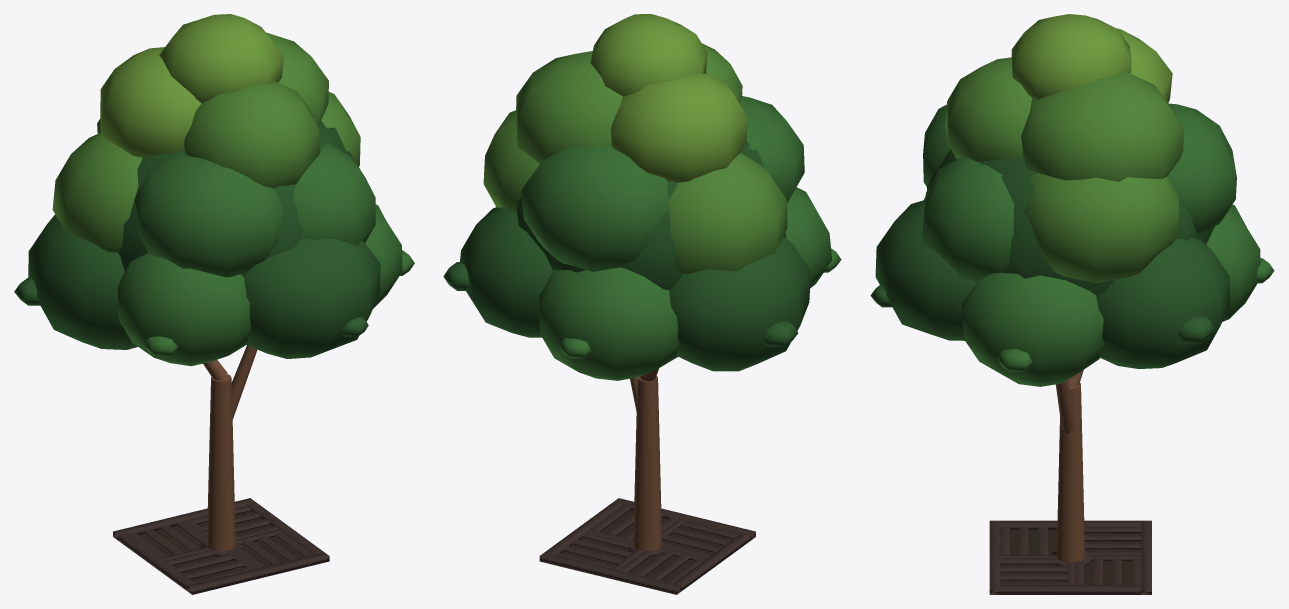
The model's file is tree.glb.
3 renders of one model, left to right at view 1: azimuth 30°, elevation 25°; view 2: azimuth 150°, elevation 25°; view 3: azimuth 270°, elevation 25°, orthographic. The views are drawn at different scales.
Parts seen in each view (by area): view 1: Crown14, Crown02, Crown01, Crown22, Crown00, Crown21, Crown30, Crown13, Crown10, Trunk, CrownCore, Crown20 (+9 smaller); view 2: Crown12, Crown05, Crown00, Crown21, Crown13, Crown20, Crown04, Crown30, Trunk, Crown14, CrownCore, Crown11 (+9 smaller); view 3: Crown20, Crown11, Crown03, Crown04, Crown10, Crown02, Crown30, Crown22, Crown12, CrownCore, Trunk, Crown05 (+11 smaller).
Boxes of the visible parts, x1=… form: Crown14: x1=134, y1=154, x2=283, y2=277; Crown02: x1=244, y1=238, x2=380, y2=358; Crown01: x1=117, y1=253, x2=251, y2=366; Crown22: x1=184, y1=81, x2=319, y2=188; Crown00: x1=28, y1=214, x2=137, y2=349; Crown21: x1=100, y1=47, x2=201, y2=157; Crown30: x1=159, y1=14, x2=283, y2=103; Crown13: x1=52, y1=132, x2=142, y2=252; Crown10: x1=293, y1=143, x2=375, y2=245; Trunk: x1=207, y1=374, x2=235, y2=551; CrownCore: x1=118, y1=121, x2=360, y2=276; Crown20: x1=266, y1=32, x2=328, y2=126; Crown12: x1=521, y1=145, x2=669, y2=271; Crown05: x1=539, y1=267, x2=679, y2=380; Crown00: x1=669, y1=236, x2=810, y2=371; Crown21: x1=610, y1=73, x2=747, y2=182; Crown13: x1=669, y1=153, x2=787, y2=274; Crown20: x1=516, y1=51, x2=622, y2=163; Crown04: x1=460, y1=207, x2=552, y2=337; Crown30: x1=590, y1=14, x2=707, y2=96; Trunk: x1=633, y1=376, x2=662, y2=550; Crown14: x1=739, y1=96, x2=804, y2=203; CrownCore: x1=517, y1=141, x2=785, y2=290; Crown11: x1=483, y1=110, x2=539, y2=212; Crown20: x1=1021, y1=71, x2=1183, y2=181; Crown11: x1=1024, y1=173, x2=1179, y2=282; Crown03: x1=961, y1=272, x2=1104, y2=386; Crown04: x1=1096, y1=237, x2=1229, y2=368; Crown10: x1=922, y1=157, x2=1014, y2=280; Crown02: x1=875, y1=200, x2=976, y2=340; Crown30: x1=1011, y1=14, x2=1131, y2=99; Crown22: x1=945, y1=57, x2=1032, y2=161; Crown12: x1=1167, y1=103, x2=1236, y2=234; CrownCore: x1=927, y1=149, x2=1214, y2=294; Trunk: x1=1056, y1=383, x2=1084, y2=562; Crown05: x1=1206, y1=204, x2=1260, y2=321.
Size of the model in its own units: 2.25 by 3.38 by 2.29.
